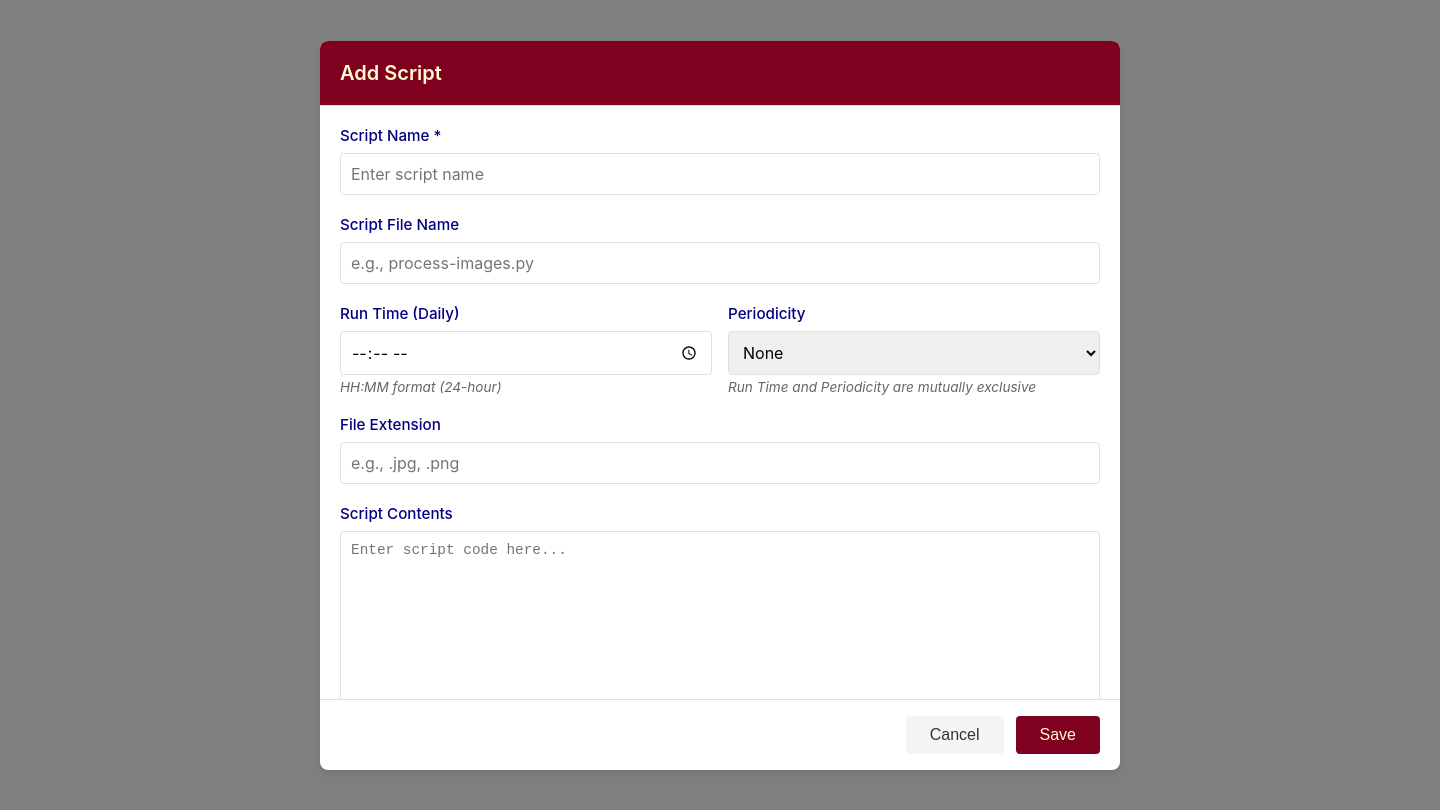
Test case: EditScriptDialog Component › buttons are disabled while saving
Fill in form
Type "New Script" into the field labelled "Script Name *". click: (720,174)
box: [340, 152, 1100, 194]
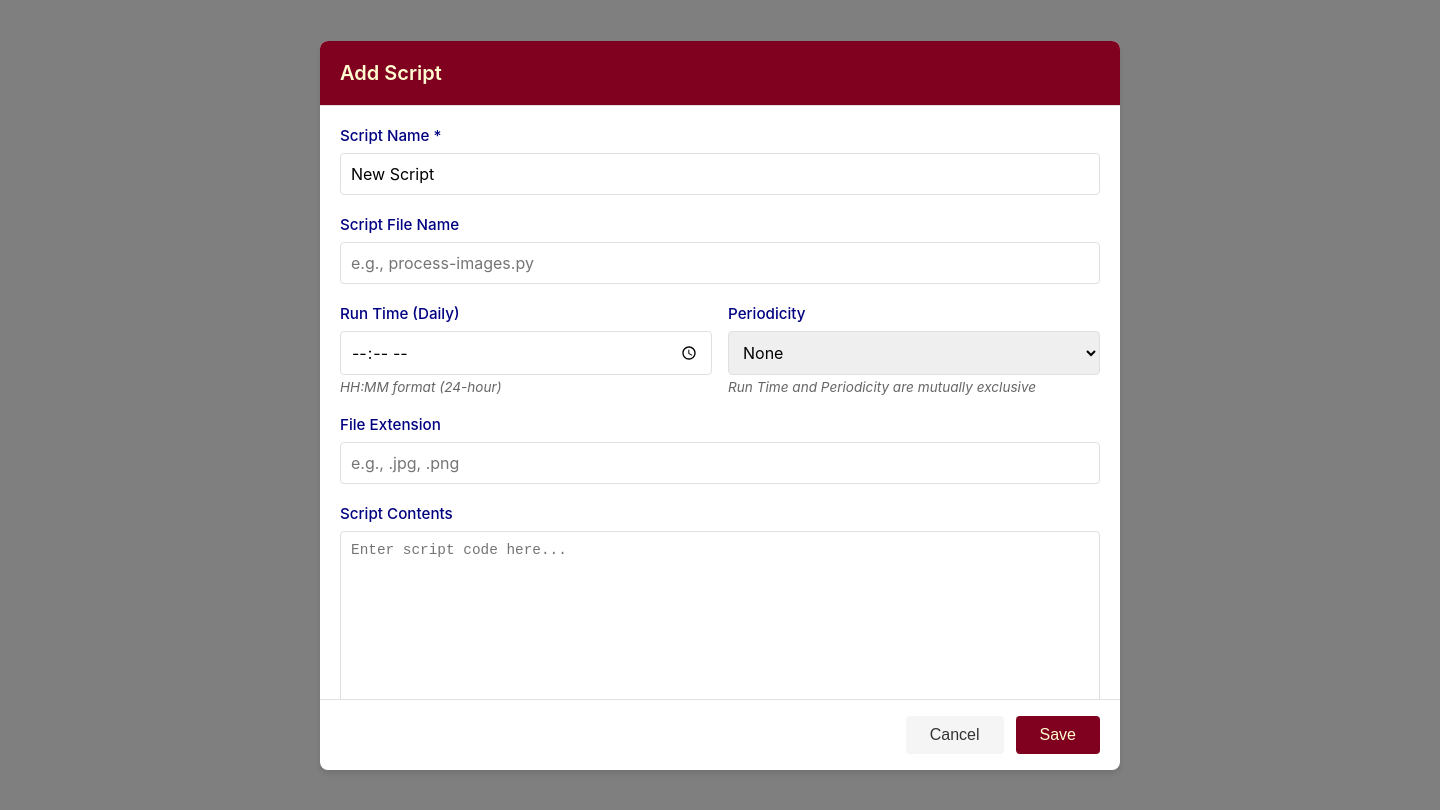
Click the button with test id "save-button". click: (1058,734)
box: [1016, 716, 1100, 754]
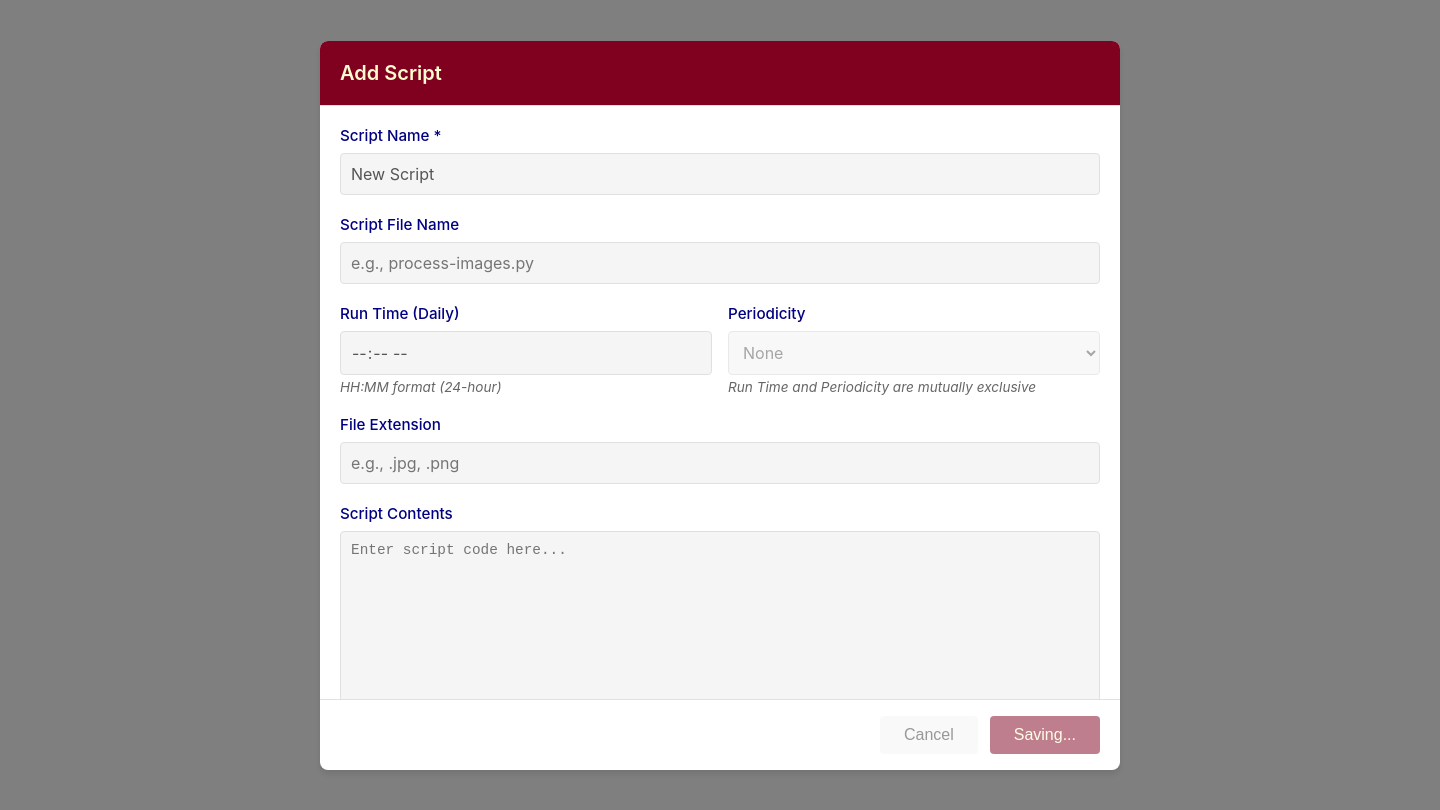
Check: the button with test id "save-button" is disabled, box [990, 716, 1100, 754]
Check: the button with test id "cancel-button" is disabled, box [880, 716, 978, 754]
